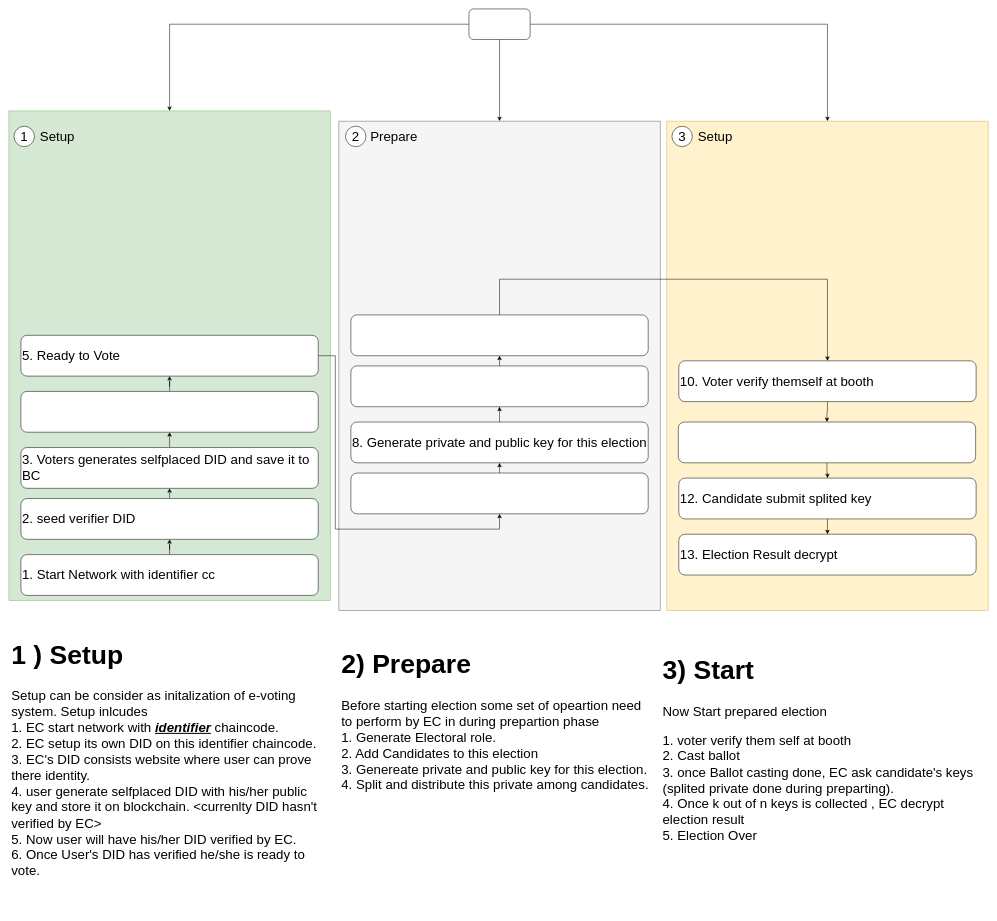
The diagram is 997 pixels wide and 921 high, and some of its shapes have lost their labels. The centre of each missing label's shape, as x and y in pixels:
"11. Cast ballot" goes at (x=827, y=442).
"4. Voter's DID verififcation" goes at (x=169, y=411).
"6. Generates electoral role" goes at (x=499, y=335).
"7. Add Candidates to the election" goes at (x=499, y=386).
"9. Split this private key and distribute among candidates" goes at (x=499, y=493).
"E-Voting" goes at (x=499, y=24).
